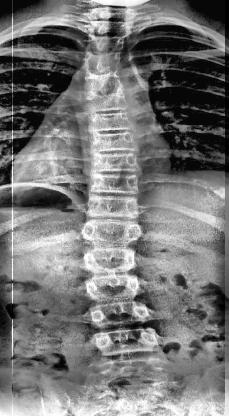Vertebrae: (80, 298, 160, 330), (86, 327, 164, 354), (78, 247, 144, 275), (73, 277, 149, 301), (81, 221, 147, 245), (83, 197, 147, 219), (74, 70, 132, 93), (80, 90, 136, 113), (84, 173, 144, 194), (89, 152, 146, 174), (78, 51, 132, 74), (82, 110, 138, 132), (88, 132, 140, 152), (82, 35, 130, 55), (86, 16, 130, 34)
